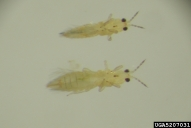Thrips: (52, 52, 154, 97), (52, 7, 155, 47)
